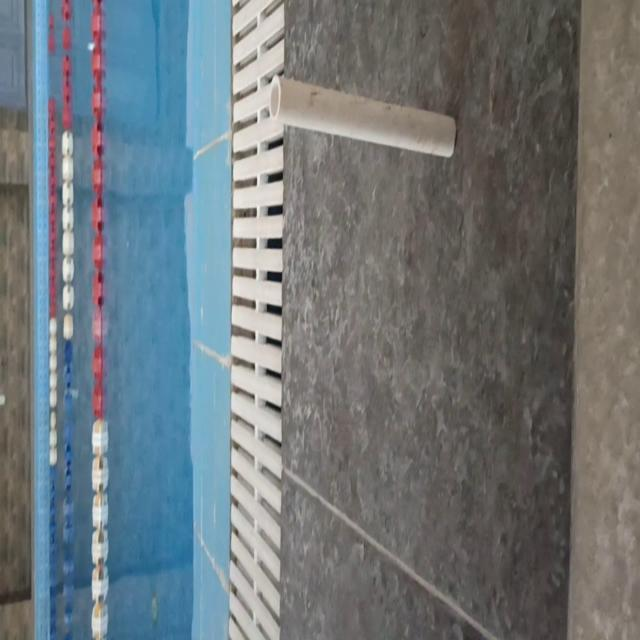Cube: (267, 71, 457, 160)
